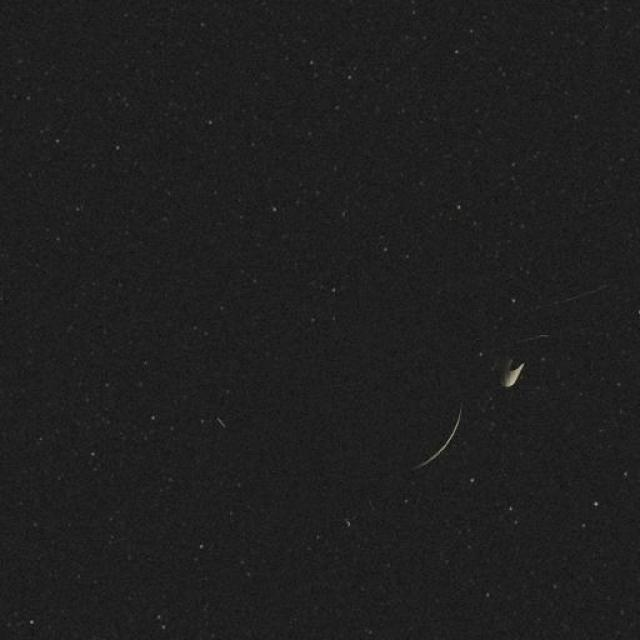proba_3_csc: (297, 248, 590, 539)
